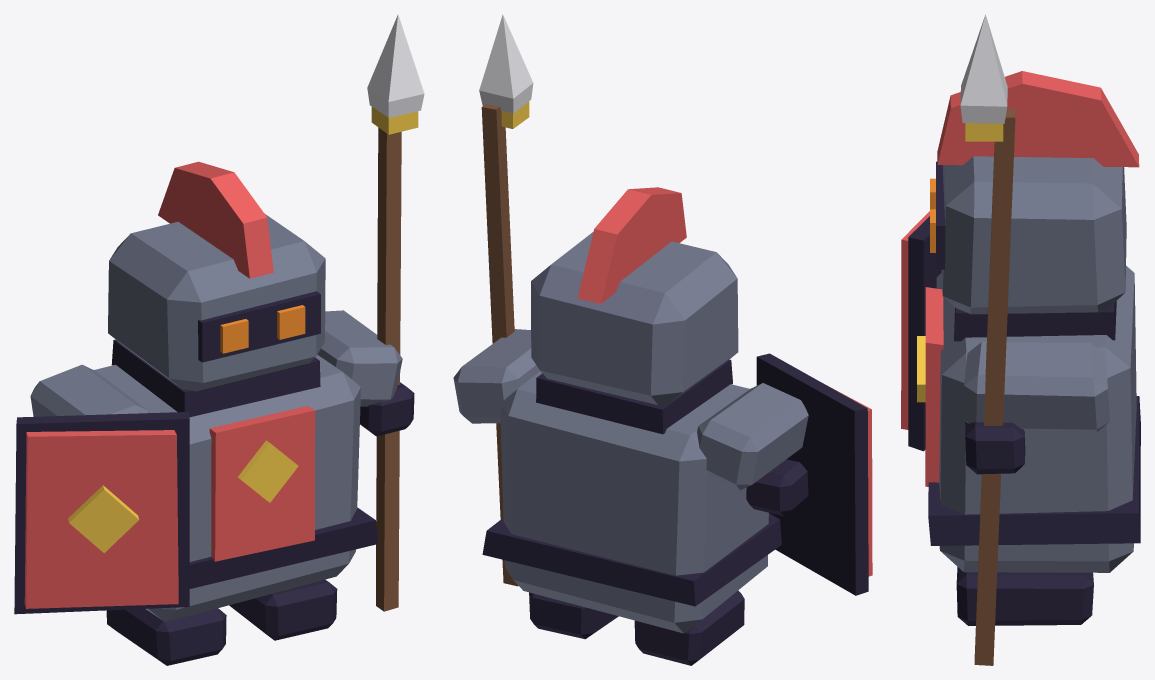
File: guard.fbx
3 renders of one model, left to right at view 1: azimuth 30°, elevation 25°; view 2: azimuth 150°, elevation 25°; view 3: azimuth 270°, elevation 25°, orthographic. The views are drawn at different scales.
Visible parts, largest first — view 1: guard; view 2: guard; view 3: guard.
Part boxes in pixels (x1=…): guard: x1=14, y1=14, x2=424, y2=665; guard: x1=453, y1=14, x2=872, y2=665; guard: x1=901, y1=14, x2=1140, y2=665.
Size of the model in its own units: 1.47 by 2.09 by 0.6938.
